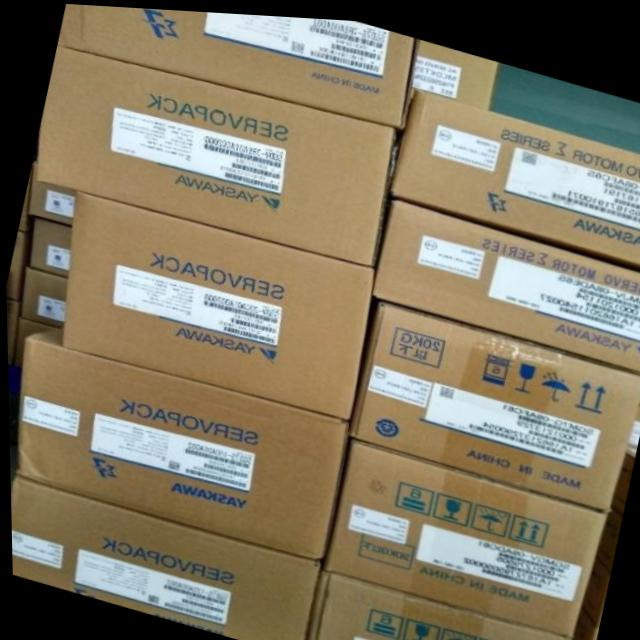box: (35, 44, 401, 263), (12, 325, 350, 557), (59, 189, 375, 417), (348, 294, 640, 506), (317, 432, 608, 630), (9, 475, 319, 640), (369, 194, 640, 364), (389, 82, 640, 263), (58, 3, 413, 125), (302, 566, 569, 640), (407, 32, 499, 104)
